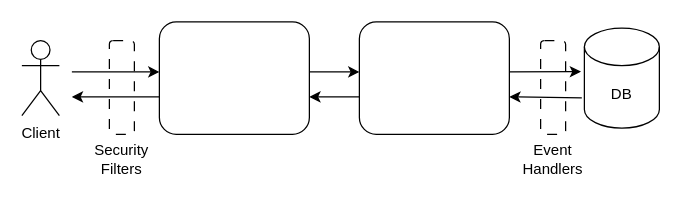
Some shapes in this 681 by 206 pixel diagram are drawn without their labels. The box of each missing label's shape, as (x1, y1, x2, y2) in pixels:
Auto-generated REST controller: (158, 21, 309, 134)
Repository Defines data access methods: (358, 21, 509, 134)
